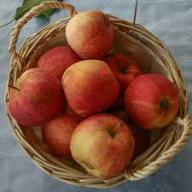apple: (72, 118, 135, 178), (62, 62, 126, 112), (10, 72, 68, 119), (124, 74, 178, 122), (64, 12, 112, 52), (32, 48, 78, 79), (103, 50, 142, 85), (46, 114, 79, 154)
